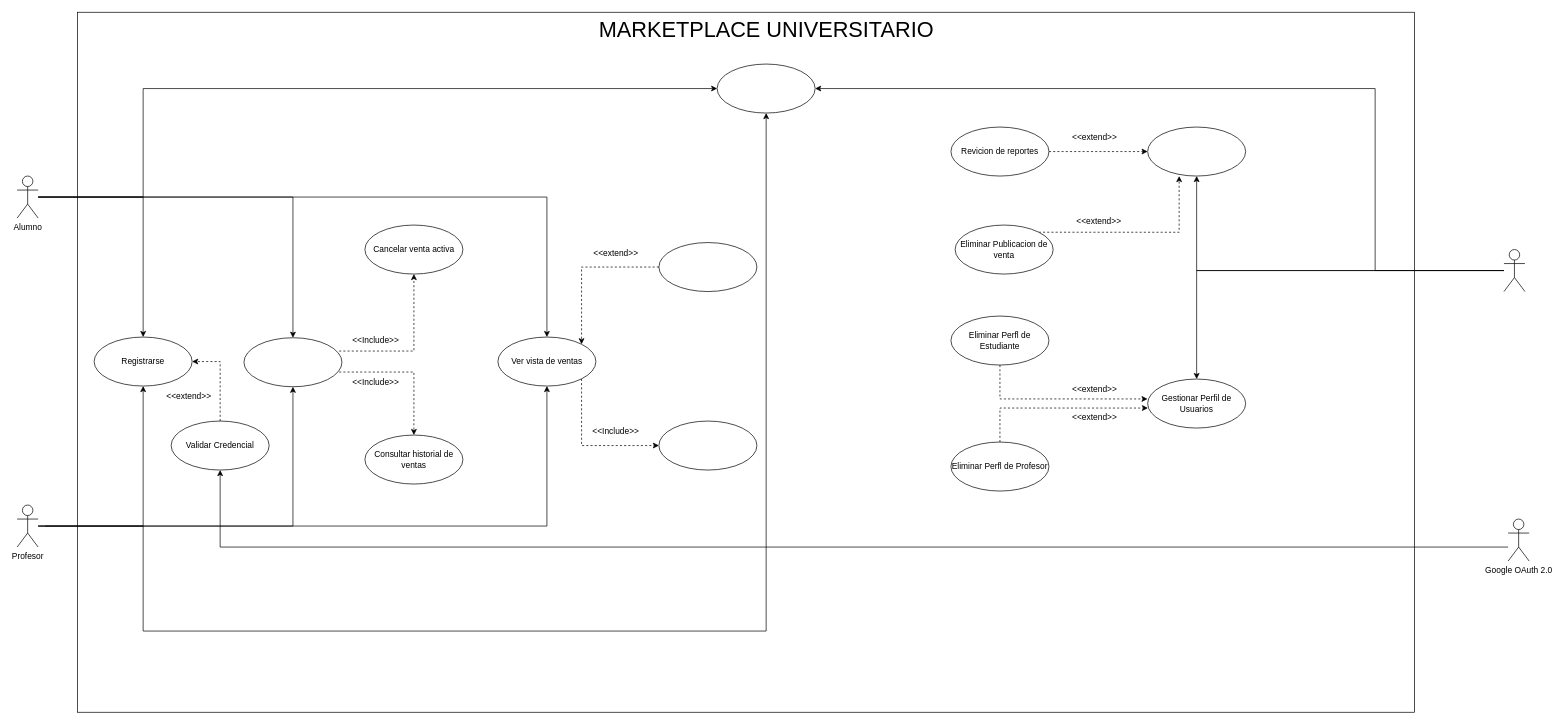
This 1565x725 diagram has some shape labels left out. The shapes that lost their labels are listed below. From the top down, each one's centre as x and y in pixels, then its label:
At (x=765, y=88): "Iniciar Sesion".
At (x=1196, y=151): "Gestionar Publicaciones de venta".
At (x=707, y=267): "Realizar publicacion de venta".
At (x=1514, y=270): "Administrador".
At (x=292, y=362): "Configuracion Perfil".
At (x=707, y=445): "Realizar compra".
